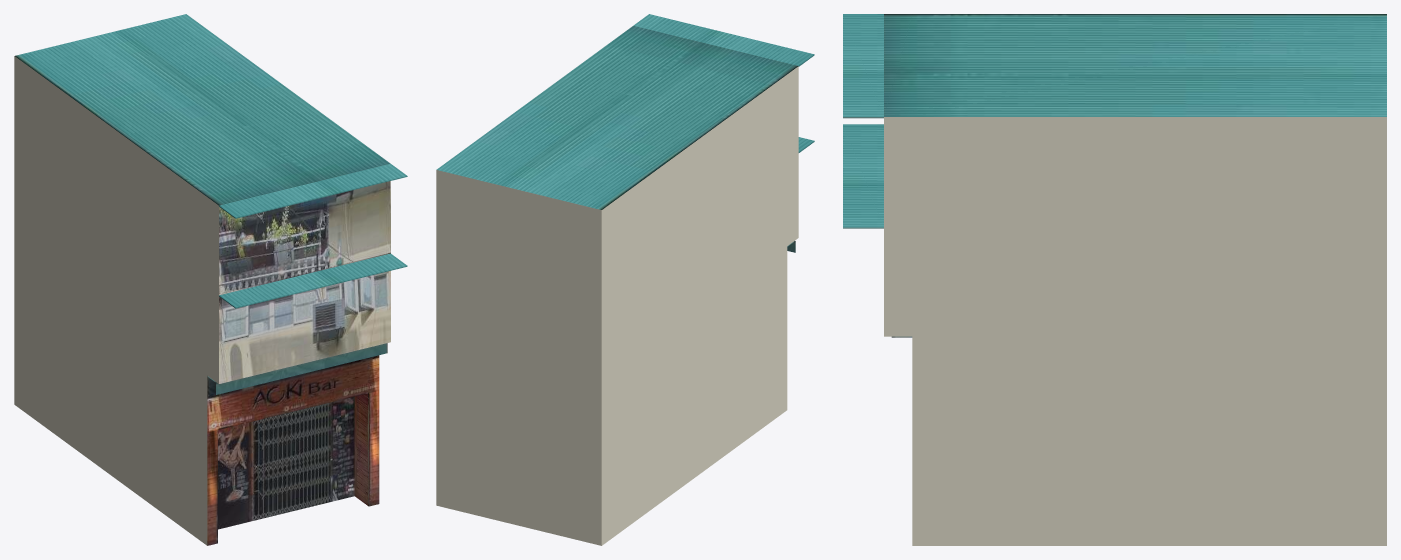
The picture shows the model from 3 angles, left to right: view 1: azimuth 30°, elevation 25°; view 2: azimuth 150°, elevation 25°; view 3: azimuth 270°, elevation 25°; orthographic projection. The views are drawn at different scales.
Parts seen in each view (by area): view 1: HN903___ACKI_Bar; view 2: HN903___ACKI_Bar; view 3: HN903___ACKI_Bar.
Boxes of the visible parts, box(x1,y1,x2,y2) form: HN903___ACKI_Bar: box(14, 14, 407, 545); HN903___ACKI_Bar: box(436, 14, 814, 545); HN903___ACKI_Bar: box(843, 14, 1386, 545).
Bounding box in the file's own units: 3.5 × 6.79 × 7.8.
1 material, 1 textured.
